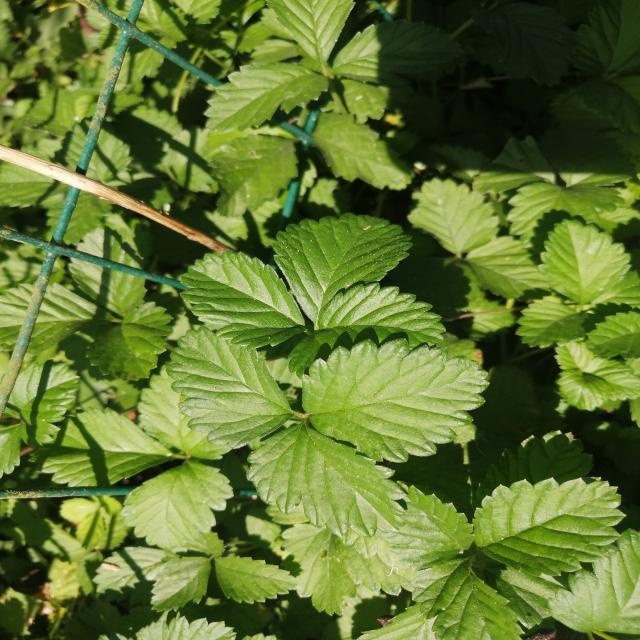Mock_strawberry: (154, 225, 486, 532)
